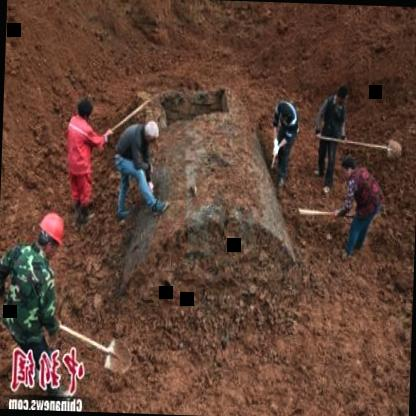helmet: (37, 210, 66, 258)
